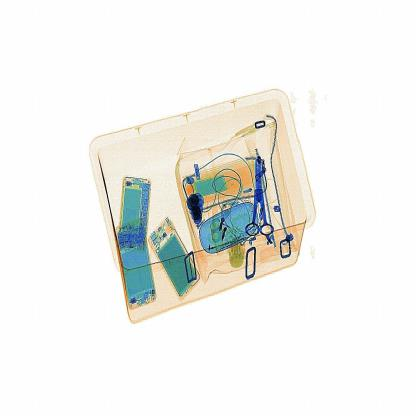gun: (243, 148, 283, 241)
